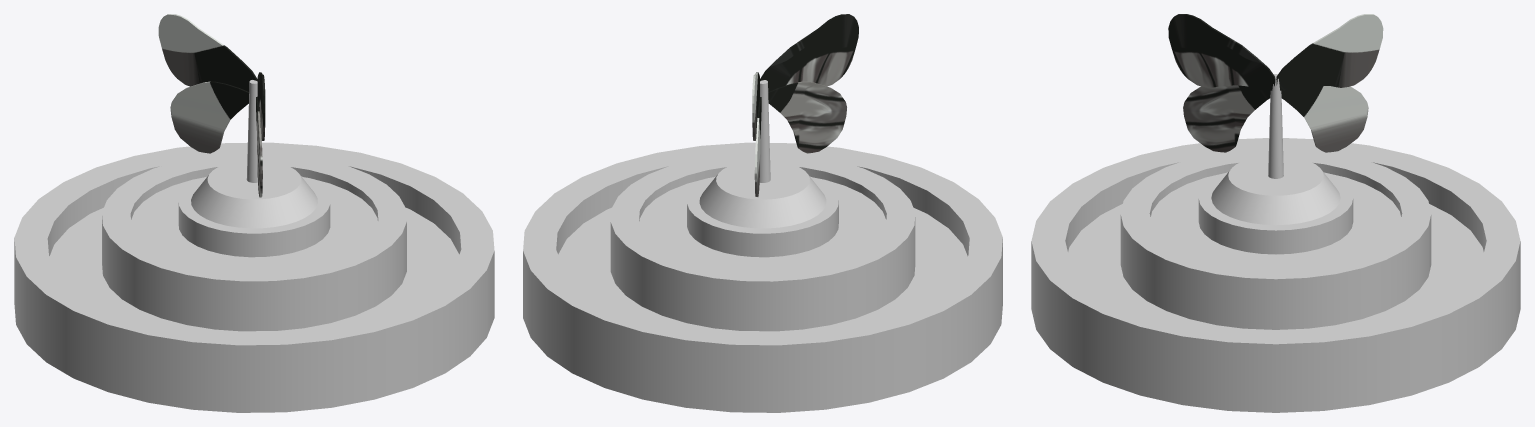
File: fontein.fbx
3 renders of one model, left to right at view 1: azimuth 30°, elevation 25°; view 2: azimuth 150°, elevation 25°; view 3: azimuth 270°, elevation 25°, orthographic.
Visible parts, largest first — view 1: Cylinder, Cube.077, Cube.078, Cube.084, Cube.083; view 2: Cylinder, Cube.083, Cube.084, Cube.078, Cube.077; view 3: Cylinder, Cube.083, Cube.077, Cube.084, Cube.078.
Part boxes in pixels (bbox=[...]): Cylinder: bbox=[14, 80, 494, 412]; Cube.077: bbox=[158, 14, 257, 91]; Cube.078: bbox=[170, 81, 249, 153]; Cube.084: bbox=[256, 96, 262, 197]; Cube.083: bbox=[257, 72, 265, 140]; Cylinder: bbox=[523, 80, 1002, 412]; Cube.083: bbox=[760, 14, 858, 91]; Cube.084: bbox=[768, 81, 846, 153]; Cube.078: bbox=[754, 97, 761, 196]; Cube.077: bbox=[752, 72, 760, 140]; Cylinder: bbox=[1031, 74, 1520, 412]; Cube.083: bbox=[1168, 14, 1275, 90]; Cube.077: bbox=[1276, 14, 1383, 90]; Cube.084: bbox=[1183, 85, 1270, 152]; Cube.078: bbox=[1281, 85, 1368, 152].
Bounding box in the file's own units: 888 × 557 × 888.
